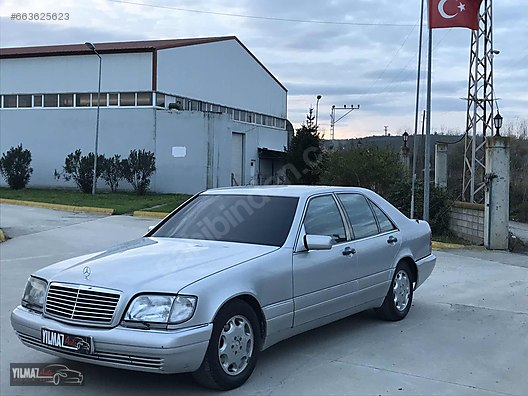mercedes: (8, 179, 443, 392)
